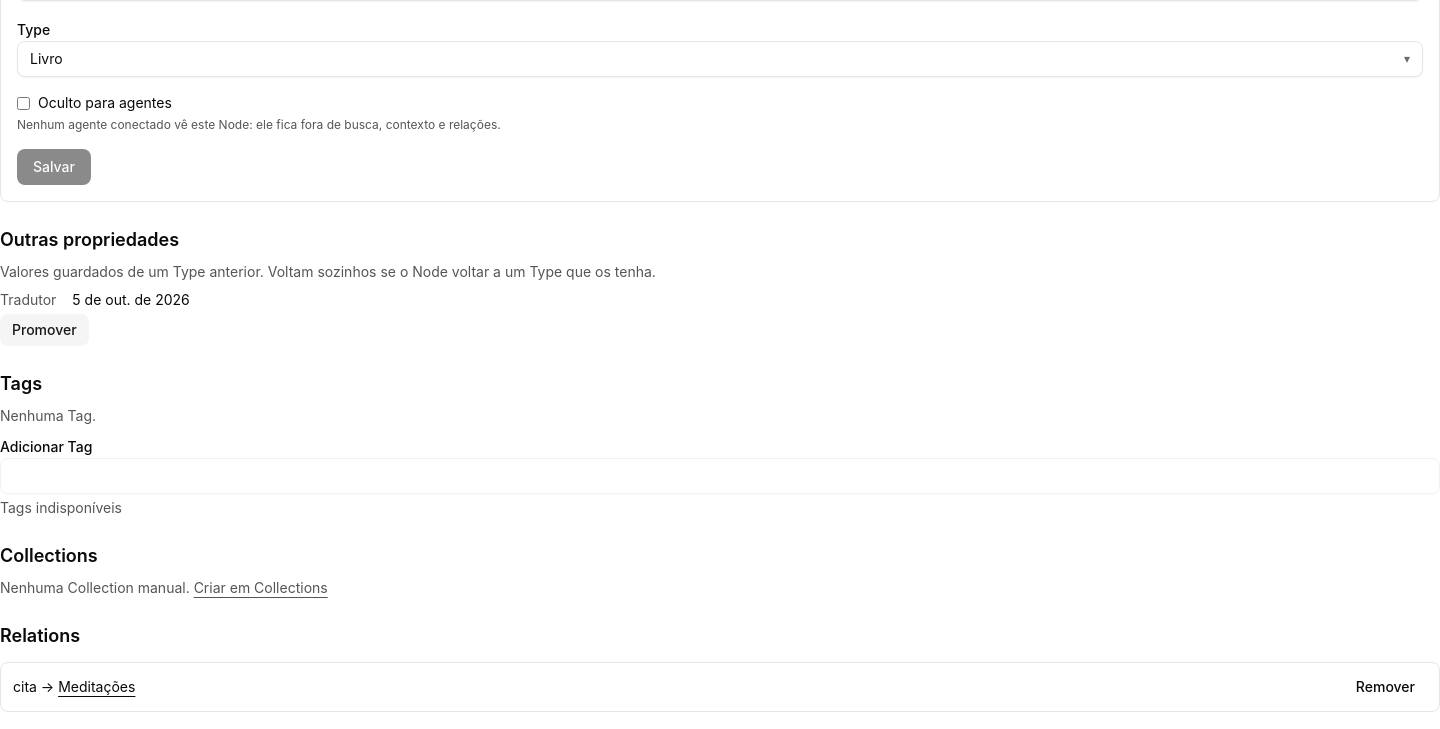
it: embedded node inspector › promoting an other property › lists the existing definitions with the same name ignoring case and accents and a kind the value could take
The image size is (1440, 729).
(page scrolled)
Click the button with aria-label "Promover Tradutor". click: (44, 330)
box: left=0, top=314, right=89, bottom=346
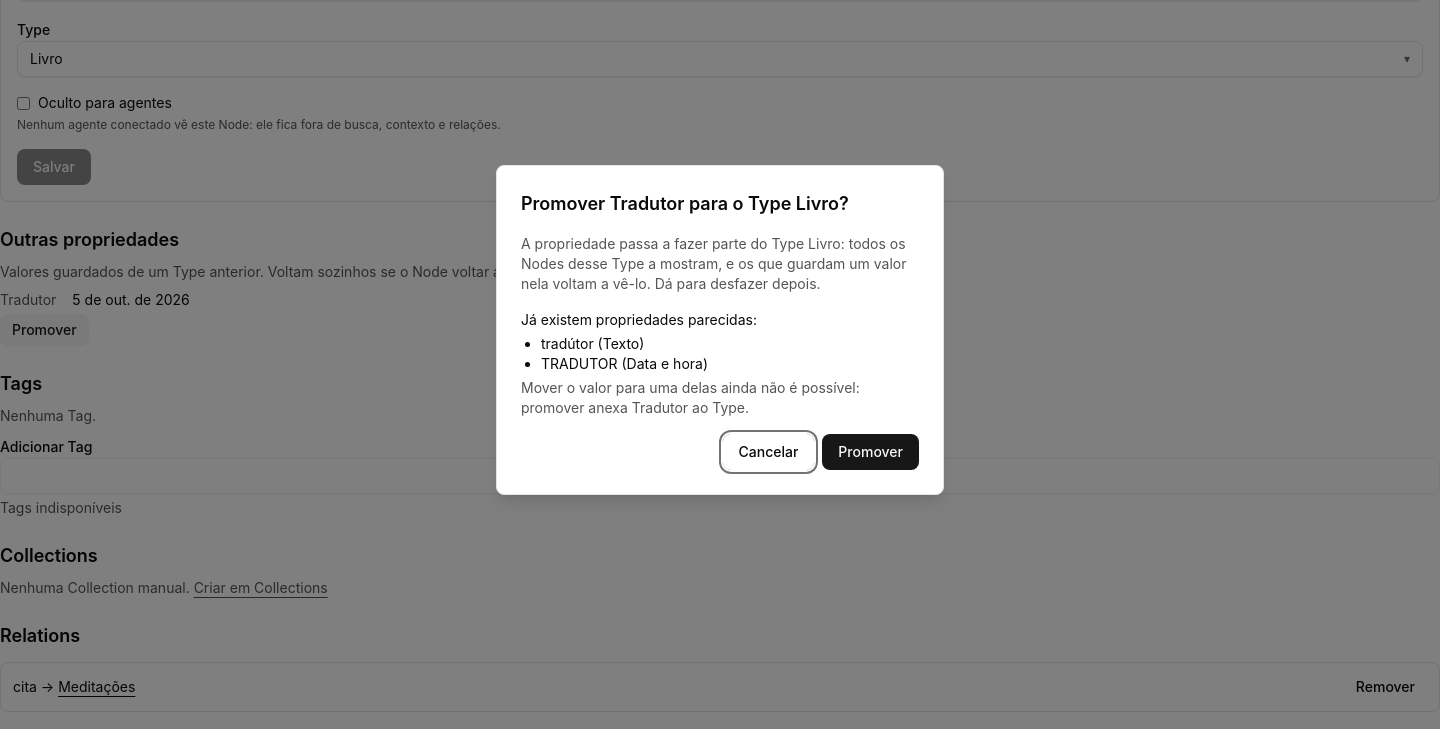
Now the text "Mover o valor para uma delas ainda não é possível" is shown, box left=521, top=379, right=860, bottom=416
